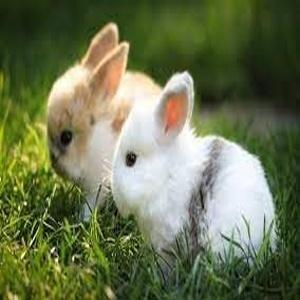rabbit: (48, 23, 274, 253)
